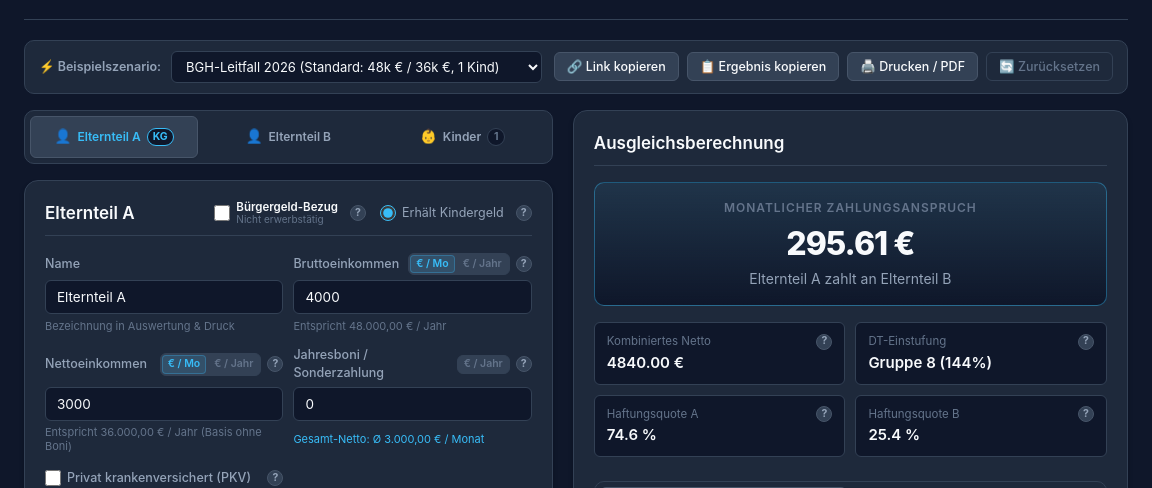
App URL Hash Integration › sollte den Wohnmehrbedarf-Modus aus dem Hash übernehmen und die entsprechenden Optionen rendern
What coordinates should you click on to do the following:
click the button titled "Kinder"
I would click on:
 (463, 137)
Its box is x1=378 y1=116 x2=547 y2=158.
(page scrolled)
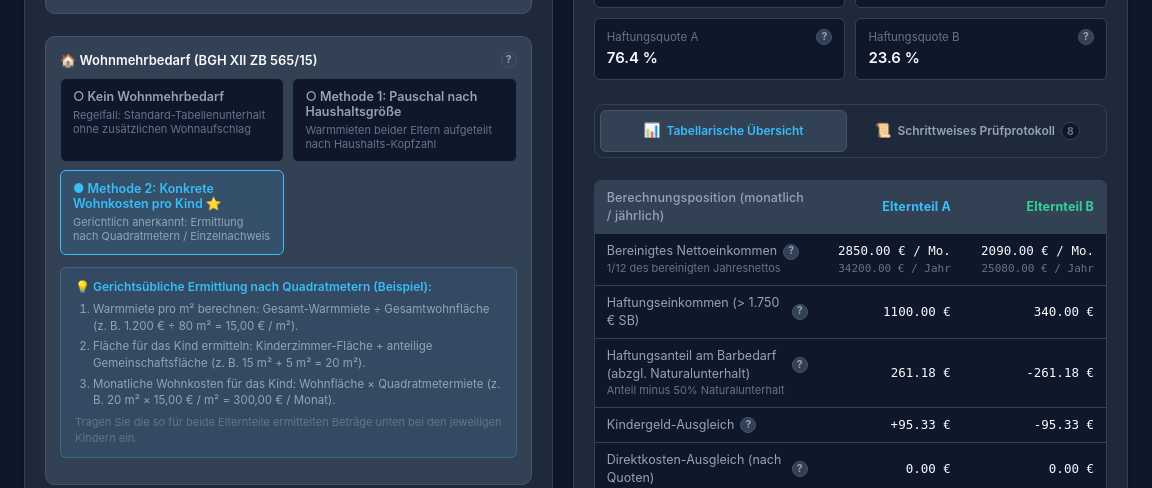
expect the text "● Methode 2: Konkrete Wohnkosten pro Kind ⭐" is shown: met, box x1=73 y1=181 x2=222 y2=211
expect the text "💡 Gerichtsübliche Ermittlung nach Quadratmetern (Beispiel):" is shown: met, box x1=75 y1=278 x2=432 y2=295
